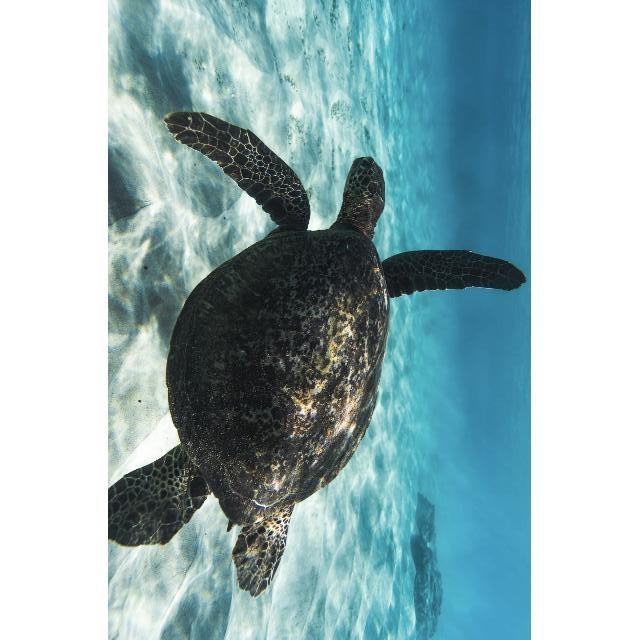turtle: (109, 107, 527, 597)
